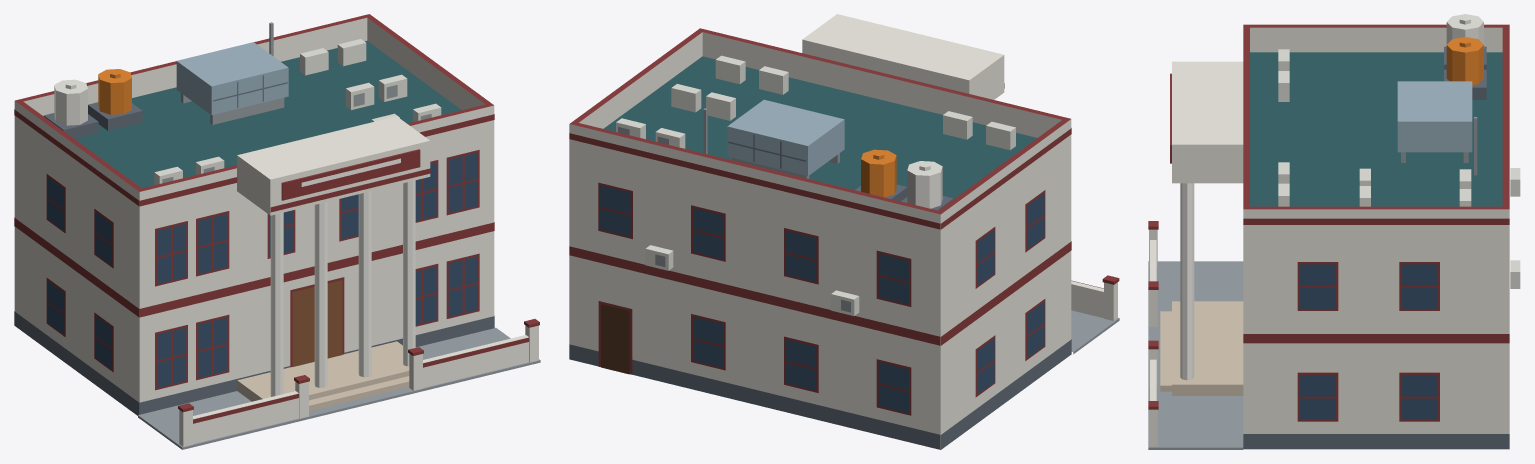
File: kantor_06.glb
3 renders of one model, left to right at view 1: azimuth 30°, elevation 25°; view 2: azimuth 150°, elevation 25°; view 3: azimuth 270°, elevation 25°, orthographic. The views are drawn at different scales.
Visible parts, largest first — view 1: kantor_06; view 2: kantor_06; view 3: kantor_06.
Part boxes in pixels (<box>): kantor_06: <box>14,14,540,449</box>; kantor_06: <box>569,14,1119,449</box>; kantor_06: <box>1148,14,1520,449</box>.
Size of the model in its own units: 13 by 8.85 by 10.98.
